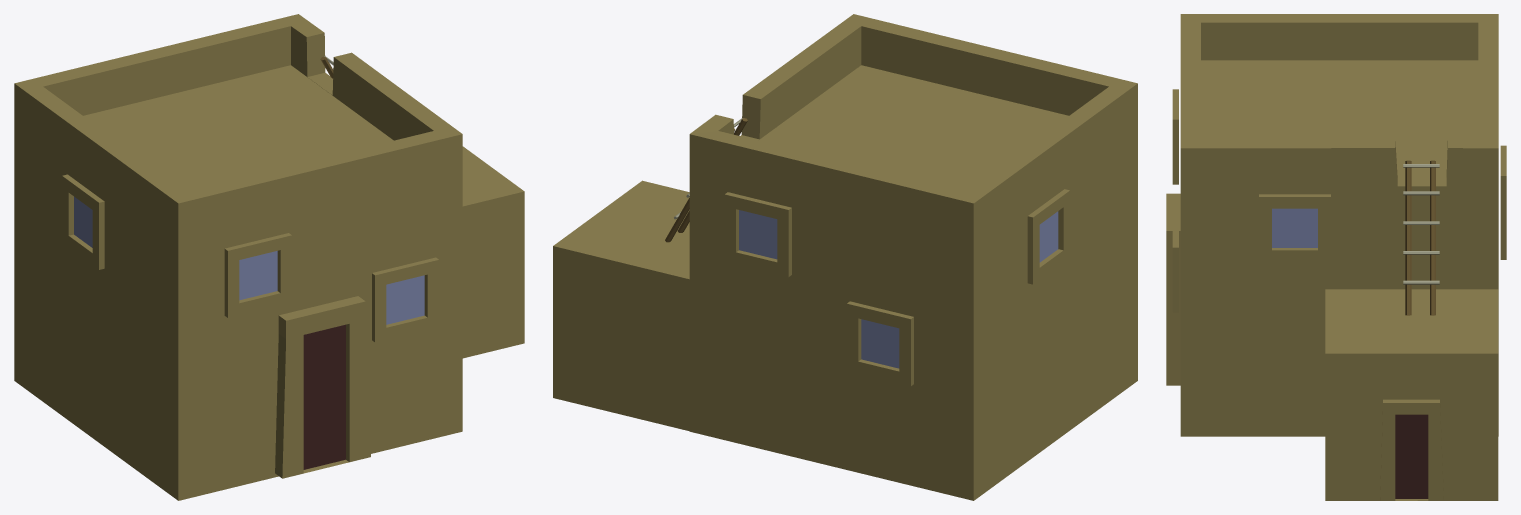
File: Desert house.fbx
The picture shows the model from 3 angles, left to right: view 1: azimuth 30°, elevation 25°; view 2: azimuth 150°, elevation 25°; view 3: azimuth 270°, elevation 25°; orthographic projection. The views are drawn at different scales.
Parts seen in each view (by area): view 1: Desert house; view 2: Desert house; view 3: Desert house.
Boxes of the visible parts, x1,y1,x2,y2 form: Desert house: (14, 14, 524, 500); Desert house: (553, 14, 1137, 500); Desert house: (1166, 14, 1506, 500).
Bounding box in the file's own units: 458 × 300 × 321.
